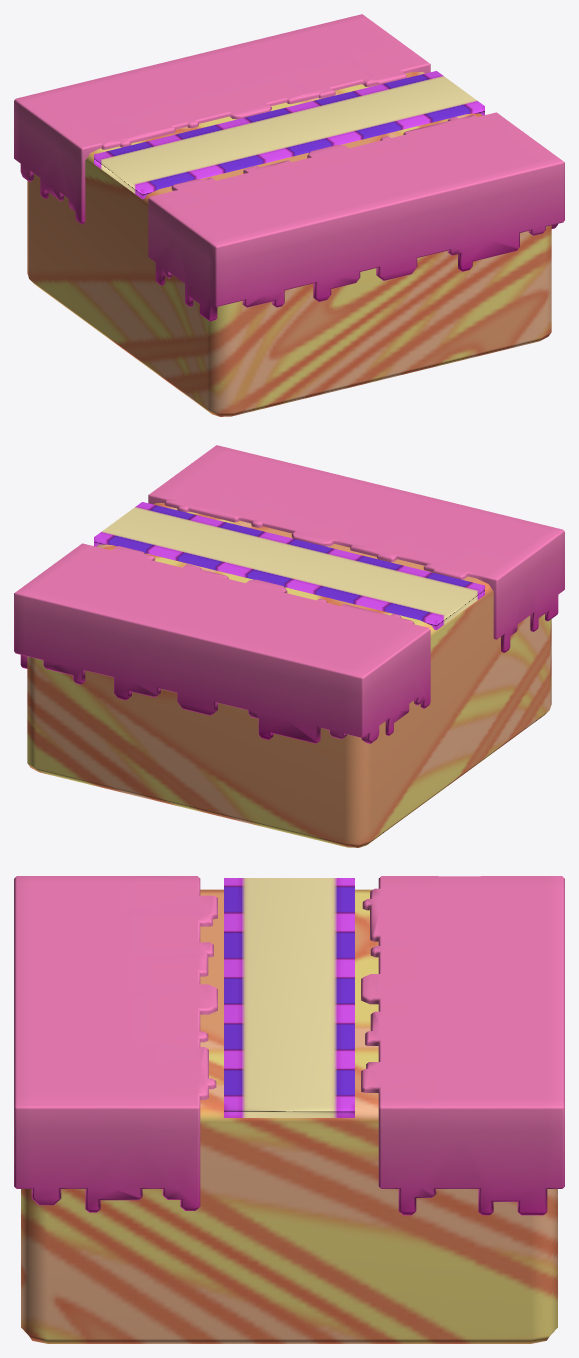
Rendered from ScaffoldM_N003.fbx.
The picture shows the model from 3 angles, top to bottom: view 1: azimuth 30°, elevation 25°; view 2: azimuth 150°, elevation 25°; view 3: azimuth 270°, elevation 25°; orthographic projection. The views are drawn at different scales.
Visible parts, largest first — view 1: asibaM_M3; view 2: asibaM_M3; view 3: asibaM_M3.
Boxes of the visible parts, x1=… form: asibaM_M3: x1=14, y1=14, x2=564, y2=416; asibaM_M3: x1=14, y1=445, x2=564, y2=847; asibaM_M3: x1=14, y1=876, x2=564, y2=1343.
Size of the model in its own units: 1.02 by 0.5062 by 1.03.
1 material, 1 textured.
